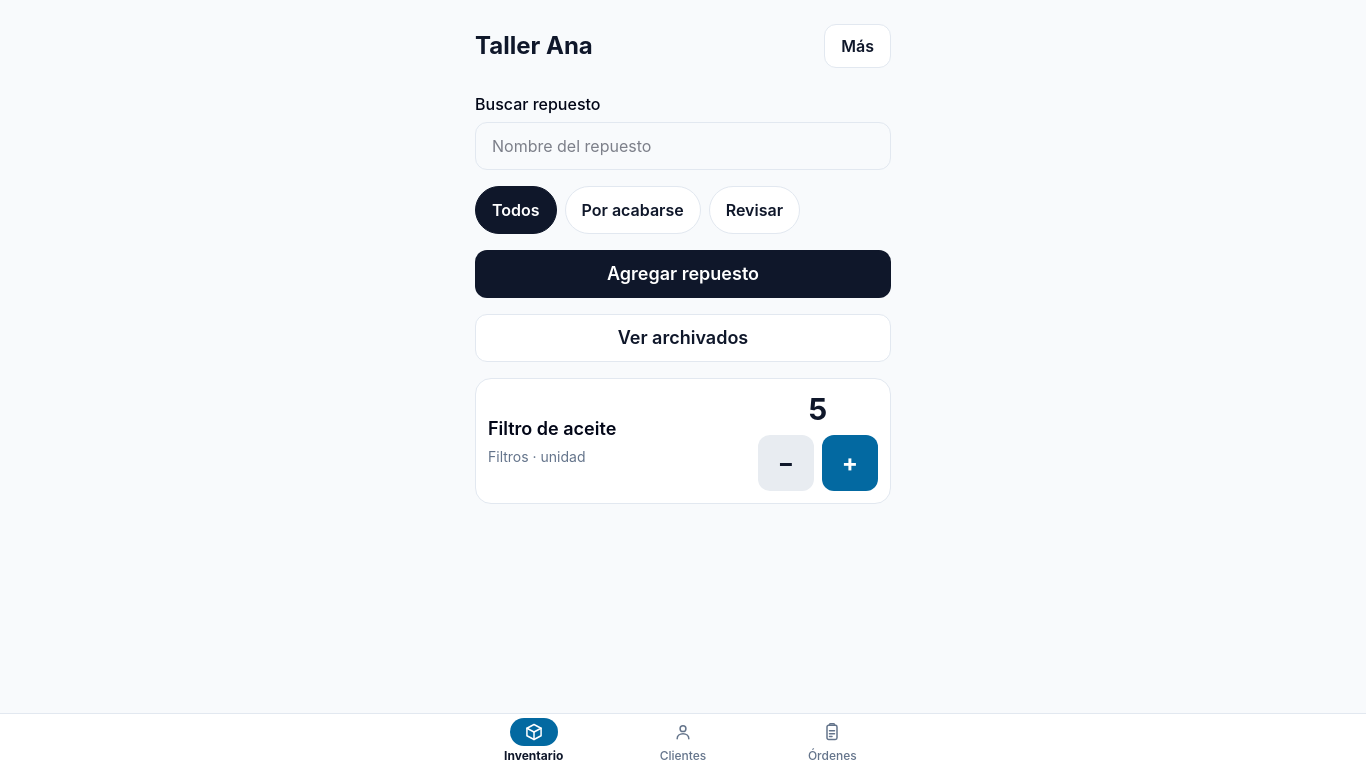
Test: InventoryPage › ends with the correct final stock when two rapid taps' server responses would resolve in reverse order
Expected: the text "5" is shown, [808, 391, 828, 427]
What coordinates should you click on to do the following:
click the button named "Agregar una unidad de Filtro de aceite"
I would click on:
 (850, 463)
Its box is [822, 435, 878, 491].
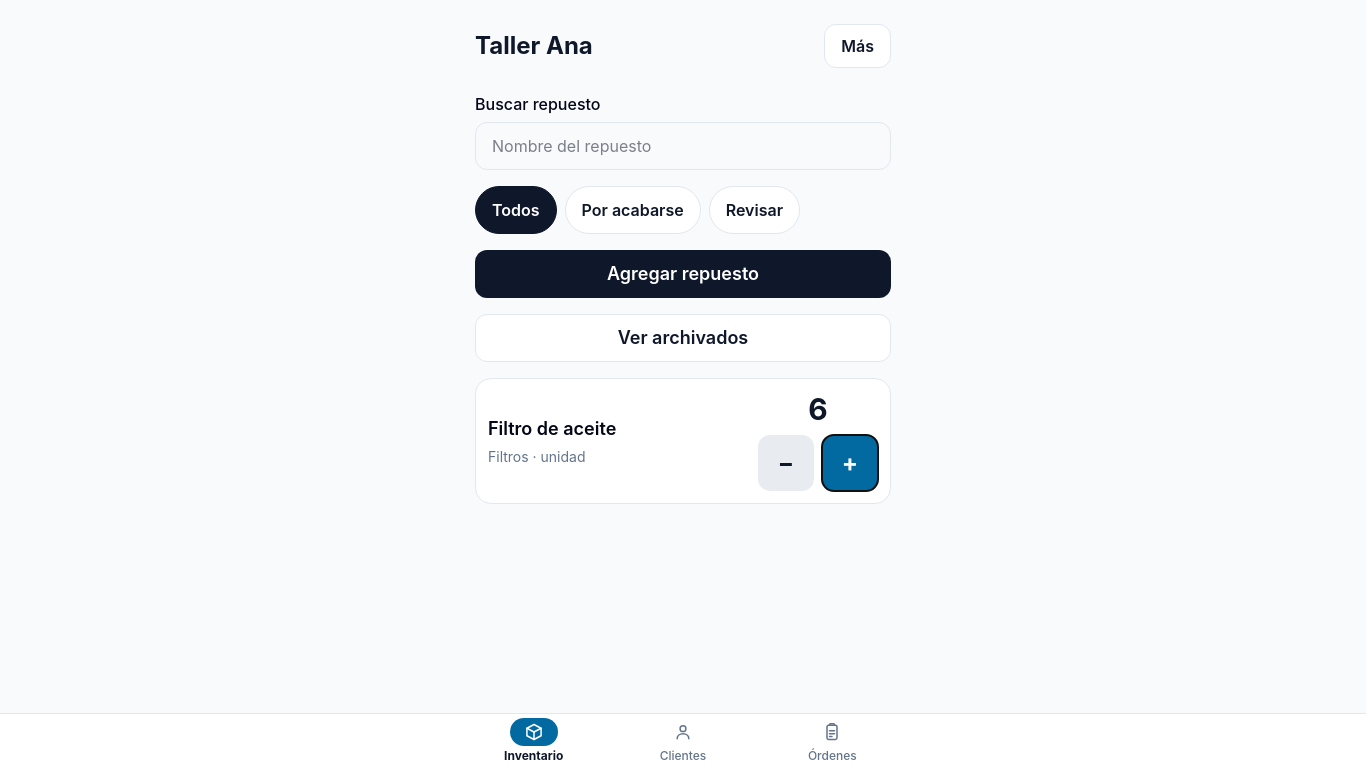
What coordinates should you click on to do the following:
click the button named "Agregar una unidad de Filtro de aceite"
I would click on:
 (850, 463)
Its box is [822, 435, 878, 491].
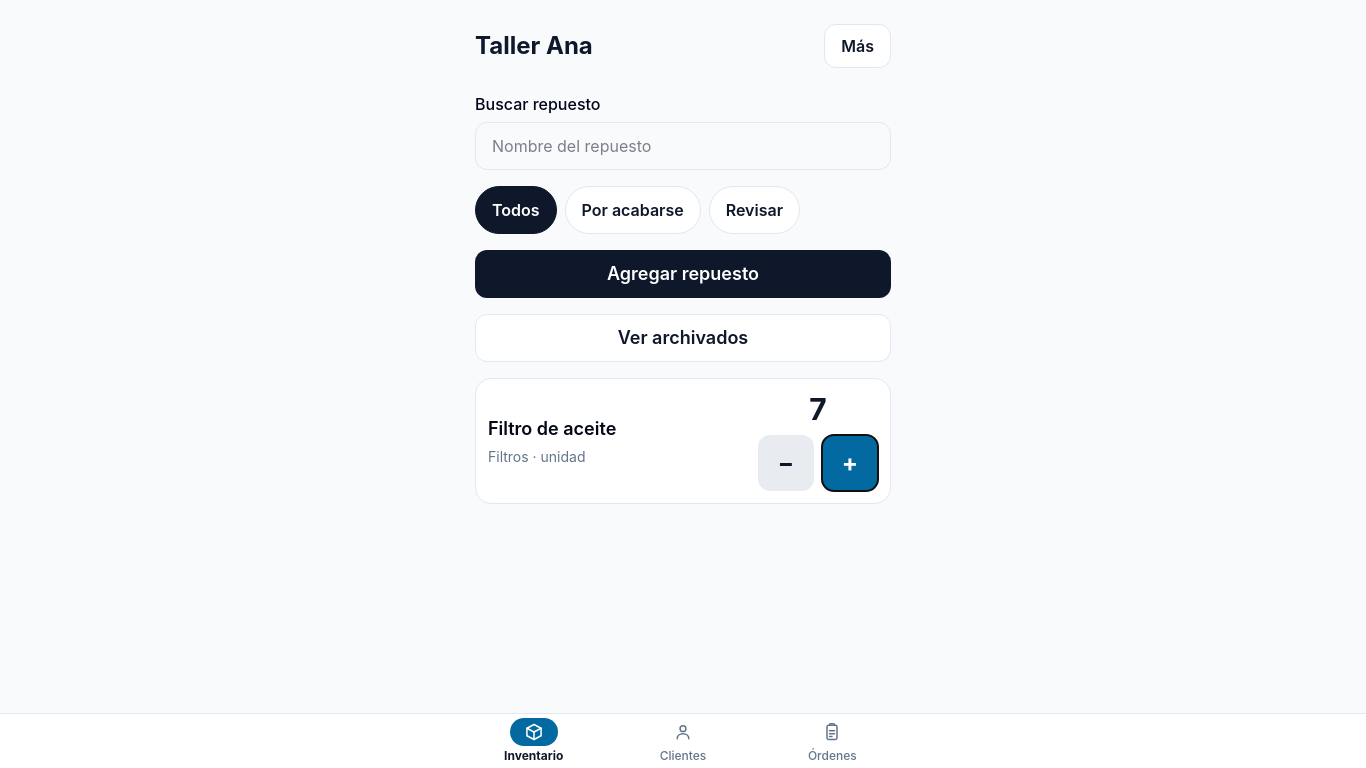
Expected: the text "7" is shown, [808, 391, 828, 427]
